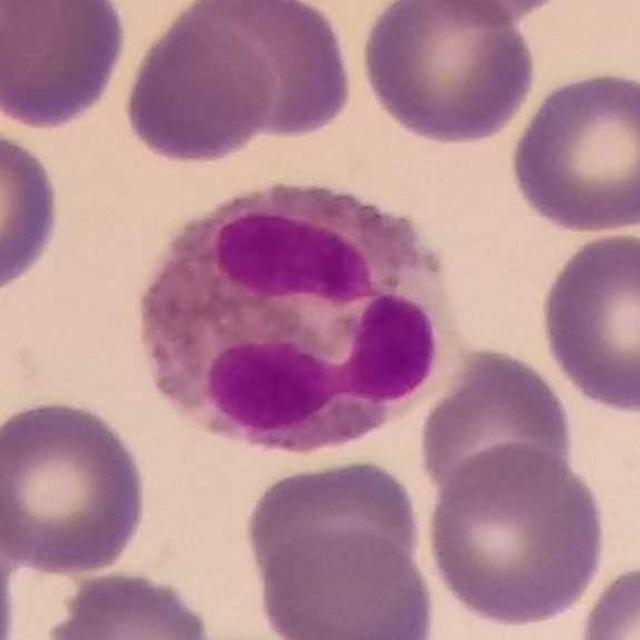Eosinophil: (132, 171, 471, 451)
RBC: (420, 437, 611, 630), (162, 0, 358, 145), (0, 394, 152, 576), (414, 342, 578, 509), (356, 0, 540, 148), (238, 454, 428, 597), (119, 7, 279, 169), (504, 63, 640, 236), (252, 522, 439, 640), (535, 226, 640, 417), (0, 0, 131, 132), (40, 565, 224, 640), (0, 118, 67, 302), (574, 557, 639, 640), (0, 0, 61, 86), (408, 0, 562, 29), (0, 505, 21, 640)
